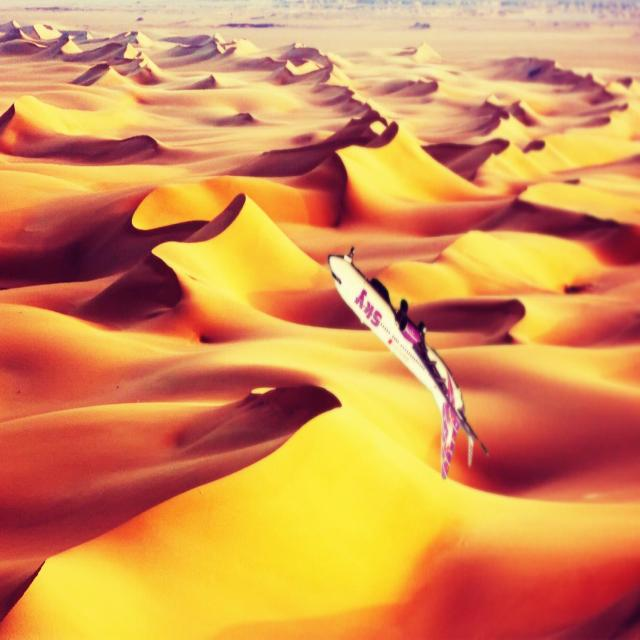airplane: (327, 245, 490, 479)
